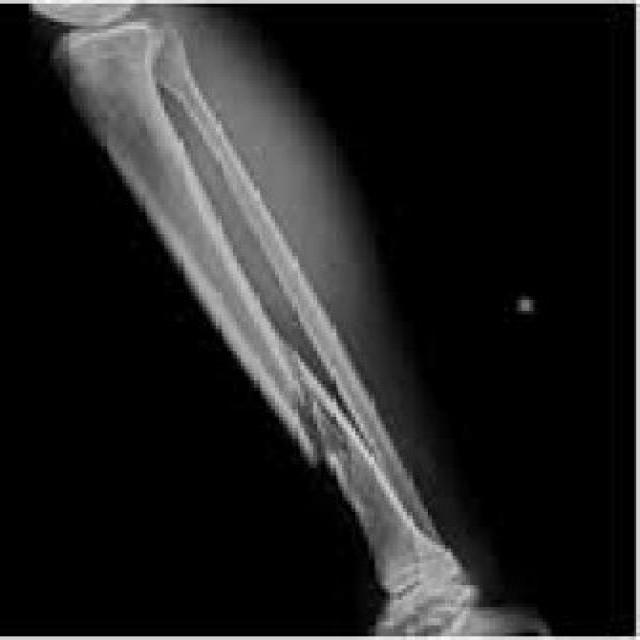Oblique: (190, 296, 440, 487)
